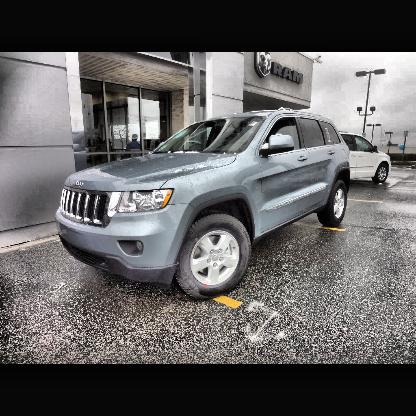Jeep Grand Cherokee SUV 2012: (56, 107, 352, 301)
